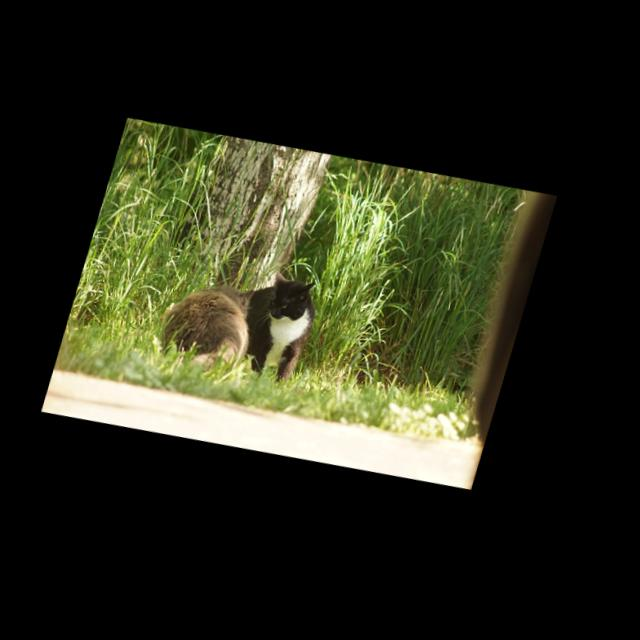animals: (156, 272, 269, 380), (237, 271, 333, 391)
